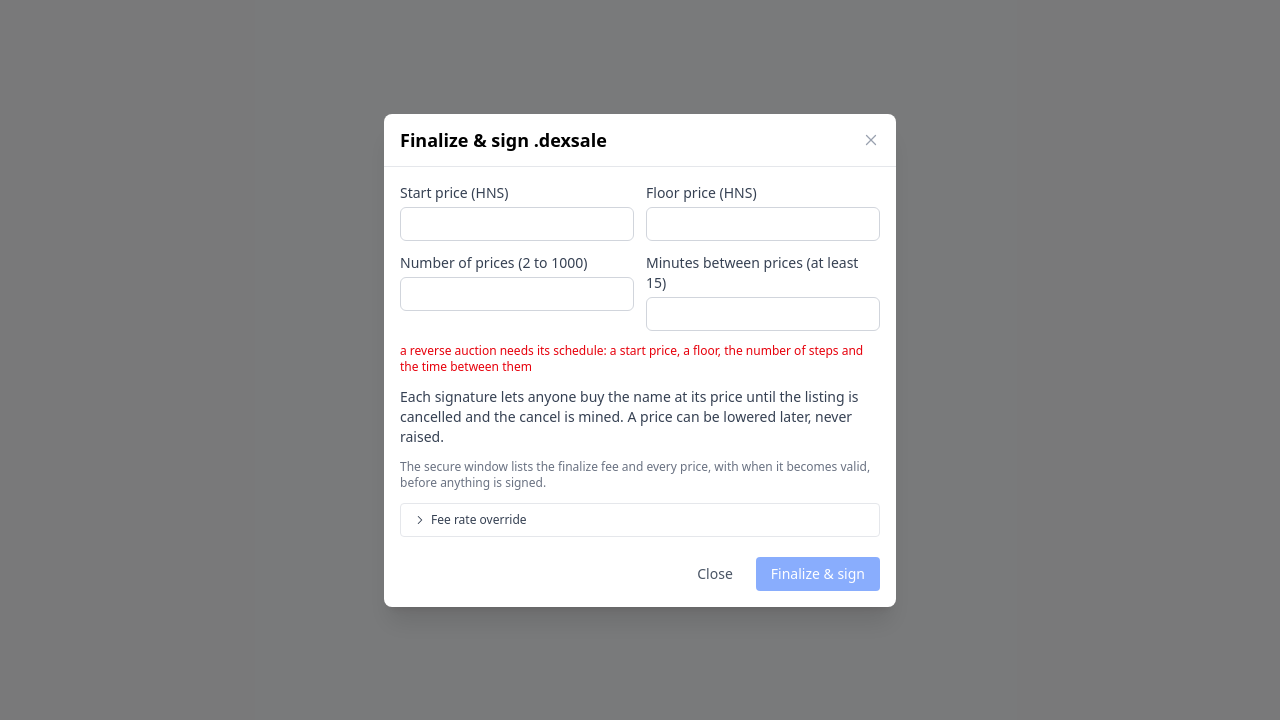
FinalizeAndSign › a step count that is not whole is refused in the backend's words, never cut down
Type "10" into the field with test id "fas-start". click: (517, 224)
box: [400,206,634,240]
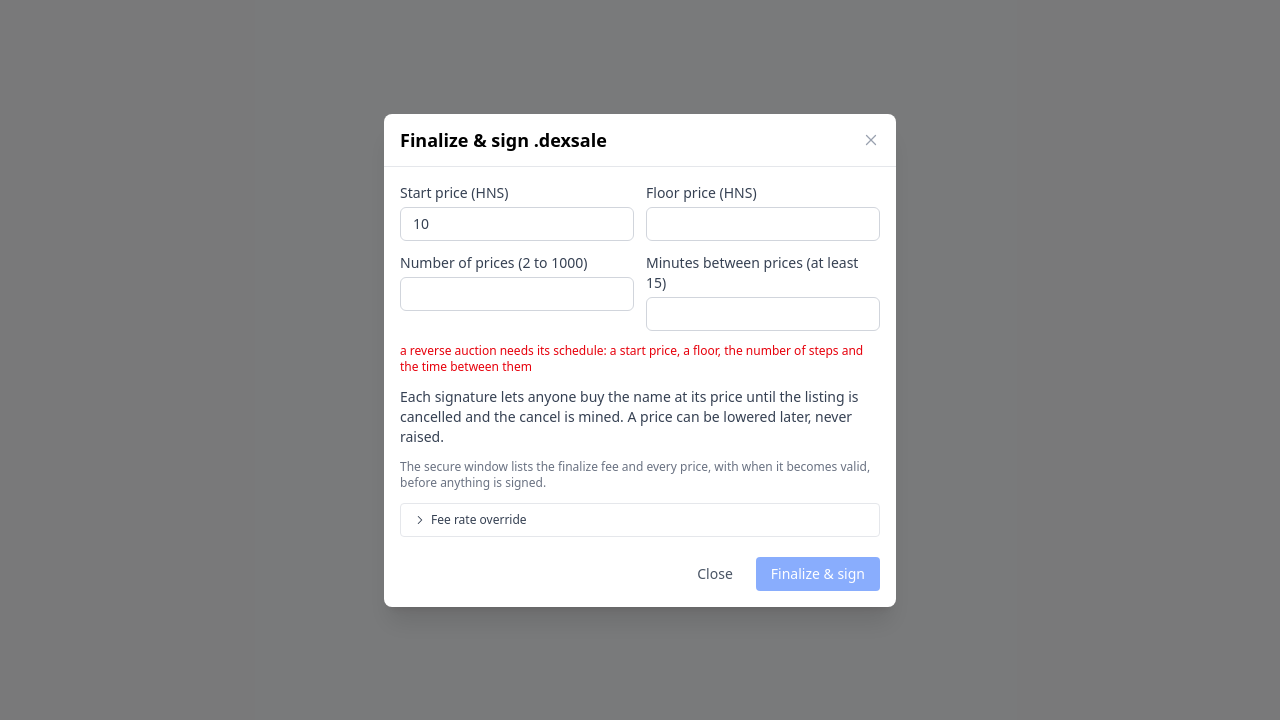
Type "5" into the field with test id "fas-floor". click: (763, 224)
box: [646,206,880,240]
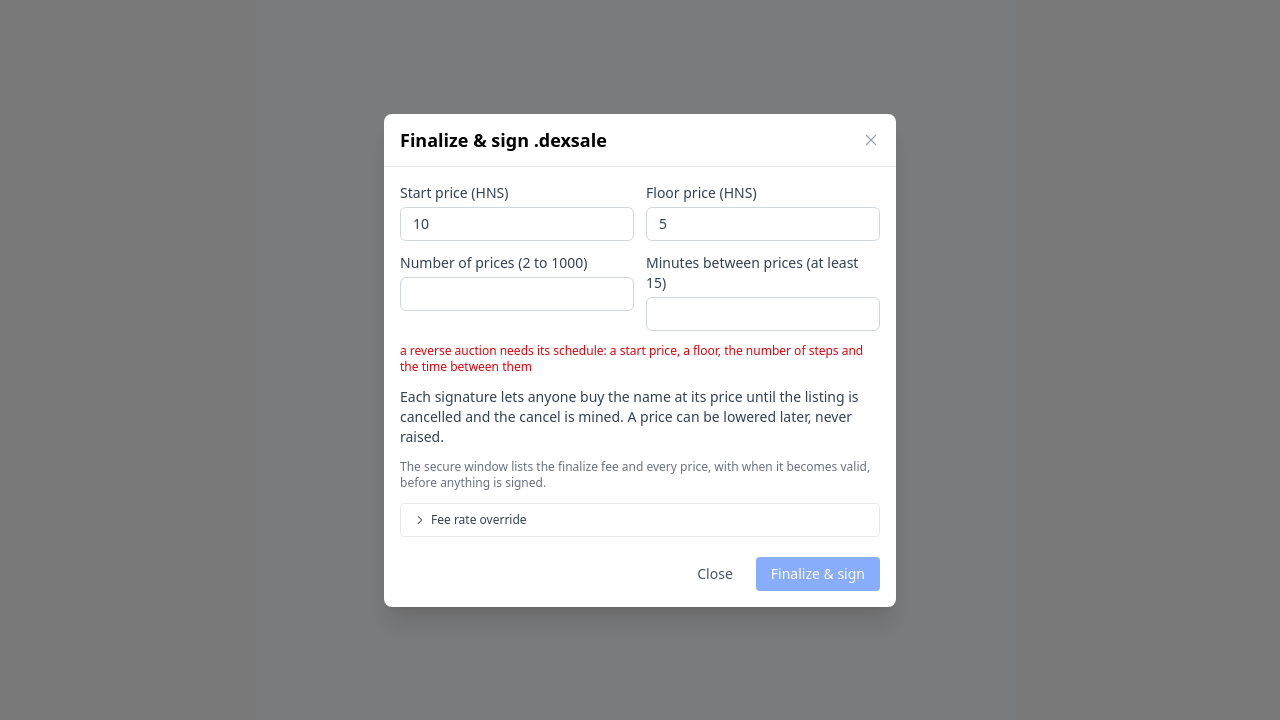
Type "2.5" into the field with test id "fas-steps". click: (517, 294)
box: [400,276,634,310]
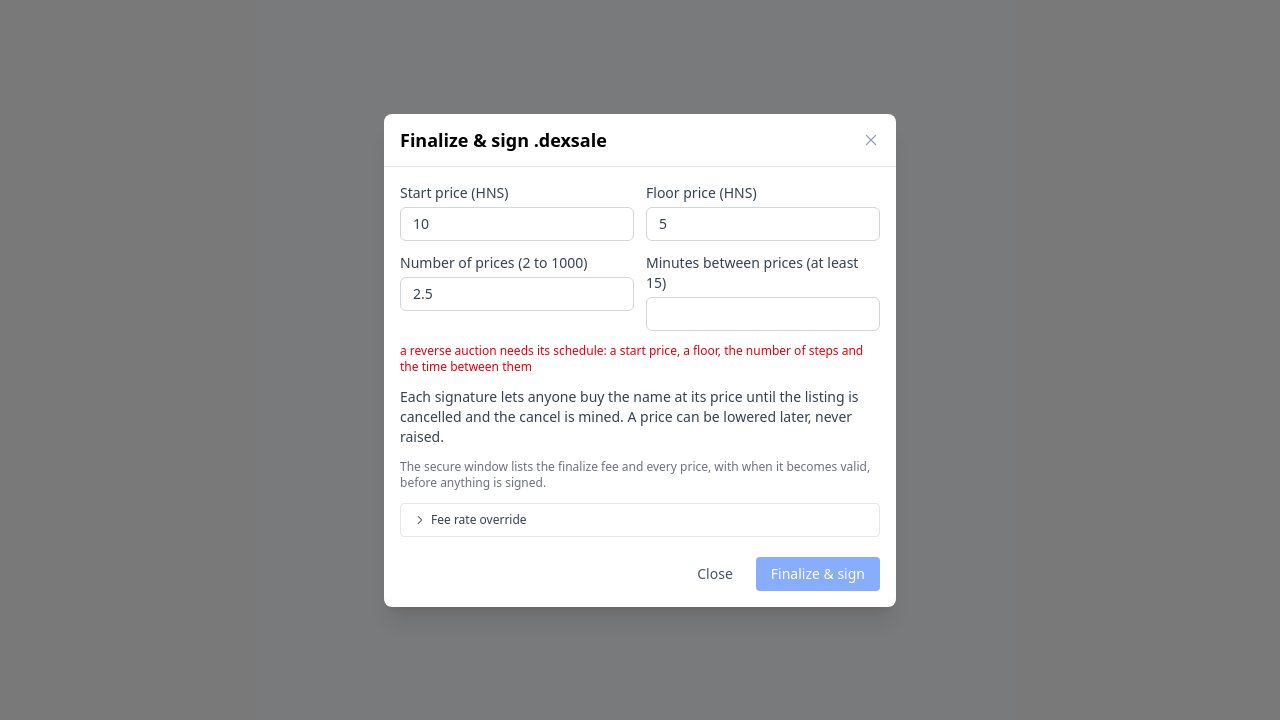
Type "60" into the field with test id "fas-interval". click: (763, 314)
box: [646,296,880,330]
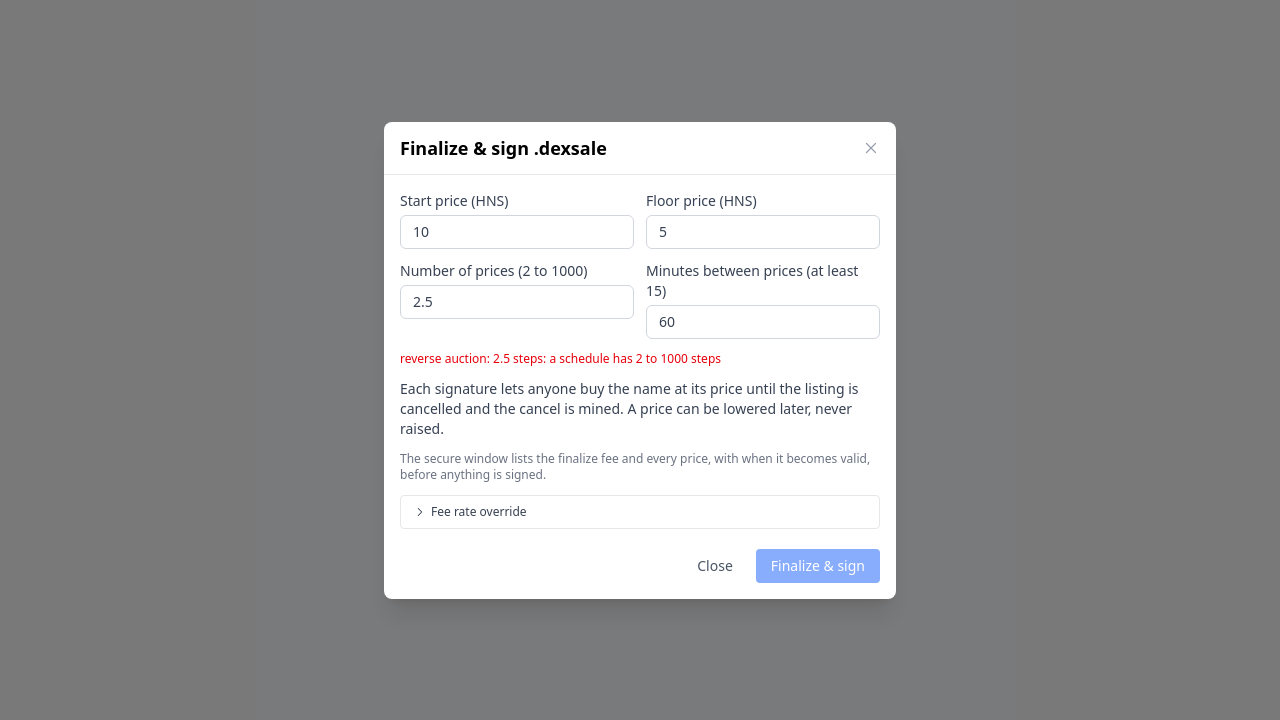
Expected: the button with test id "fas-submit" is disabled, [756,548,880,582]
Result: the text "reverse auction: 2.5 steps: a schedule has 2 to 1000 steps" is shown at [400,350,721,366]
